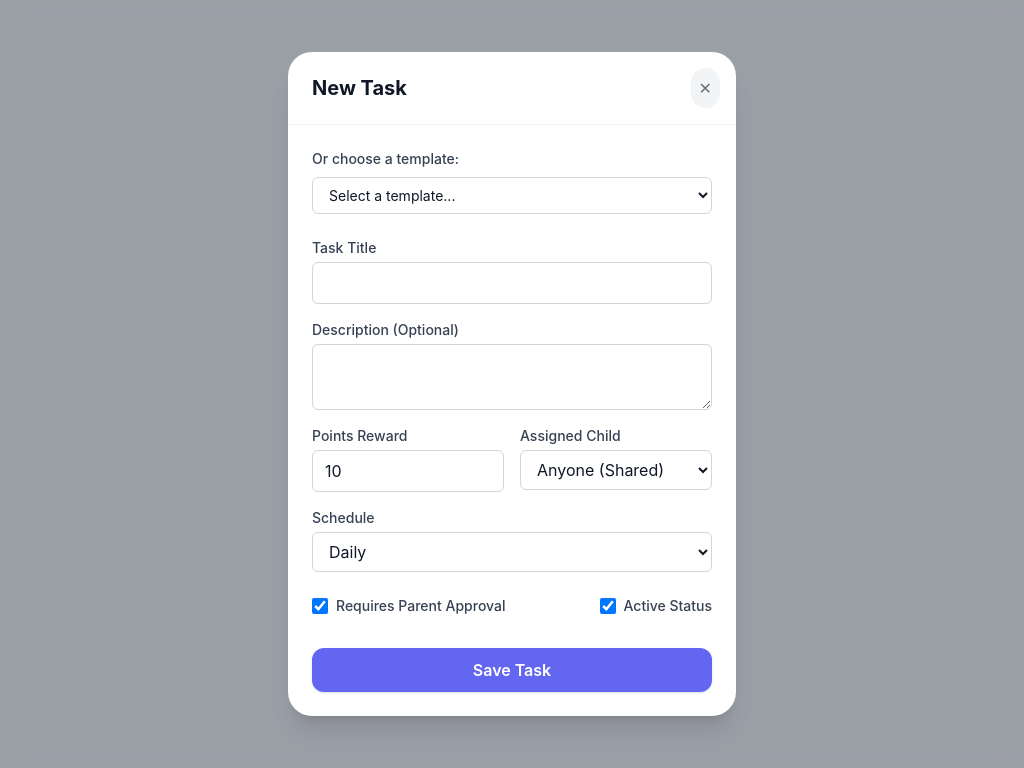
Scenario: TaskFormModal save behaviour › shows a sign-in error when no current user is present
The image size is (1024, 768).
Step 1. Type "Tidy room" into the field → (512, 283), box [312, 262, 712, 304]
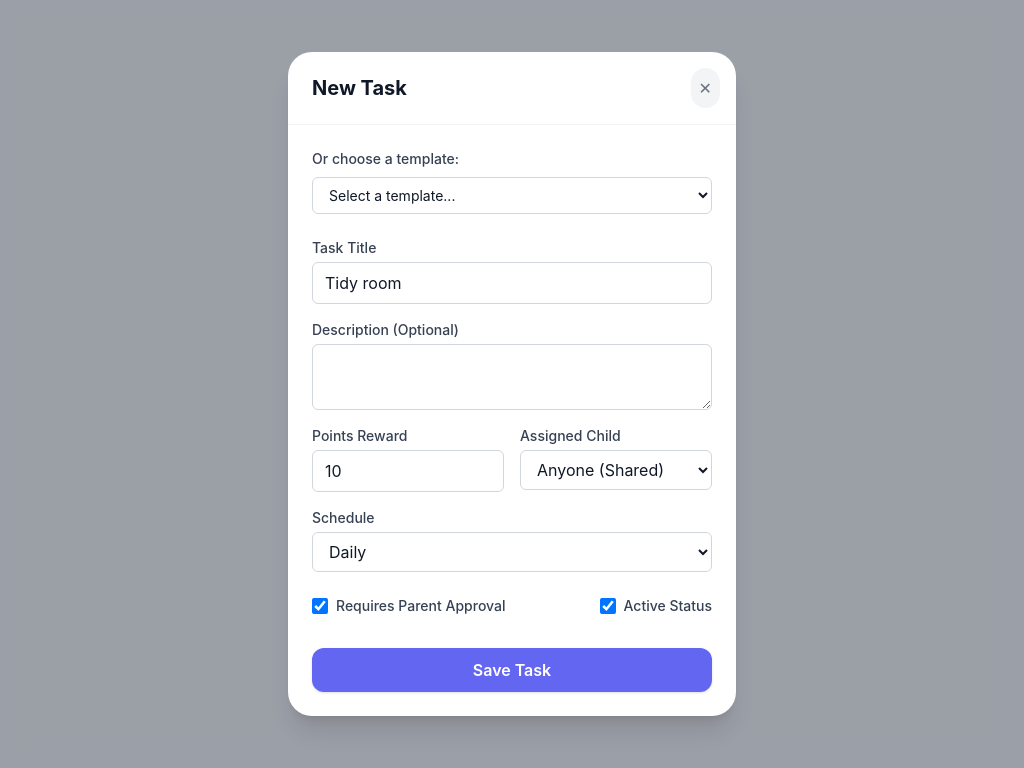
Step 2. Click the button "Save Task" → (512, 670), box [312, 648, 712, 692]
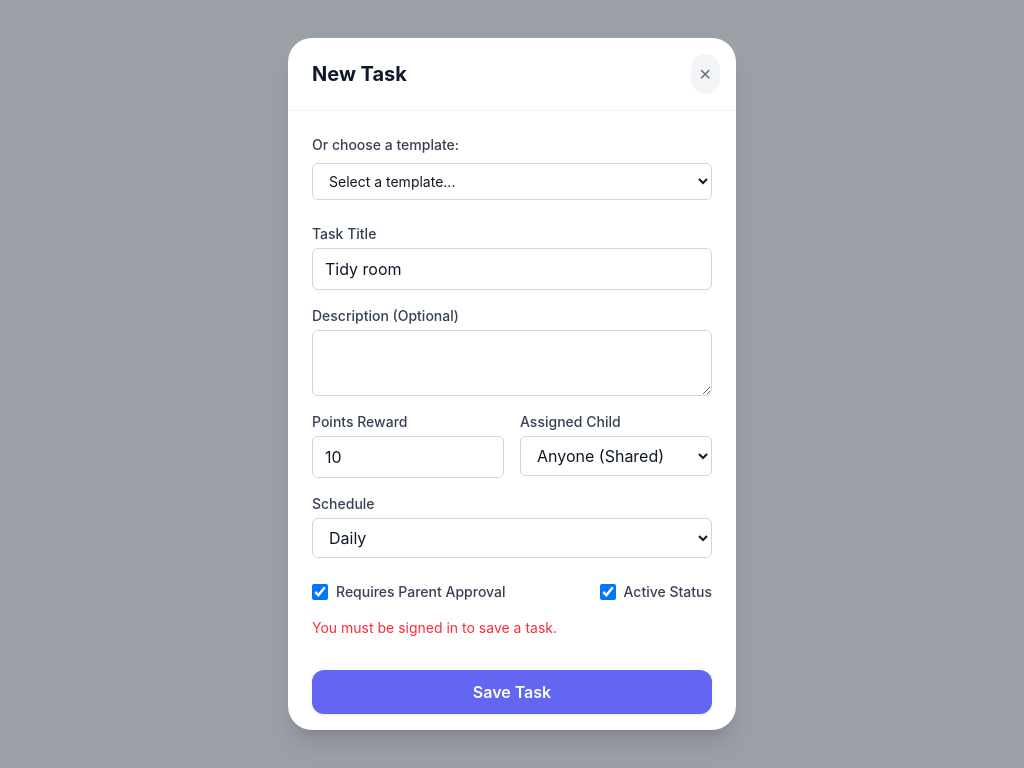
Check: the text "You must be signed in to save a task." is shown, box [312, 619, 557, 636]
